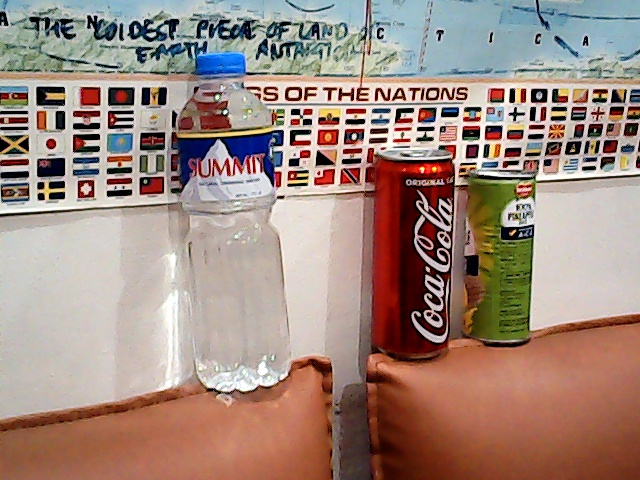Cola: (372, 145, 460, 362)
Pine Juice: (459, 163, 542, 348)
Summit Water: (170, 56, 289, 387)
